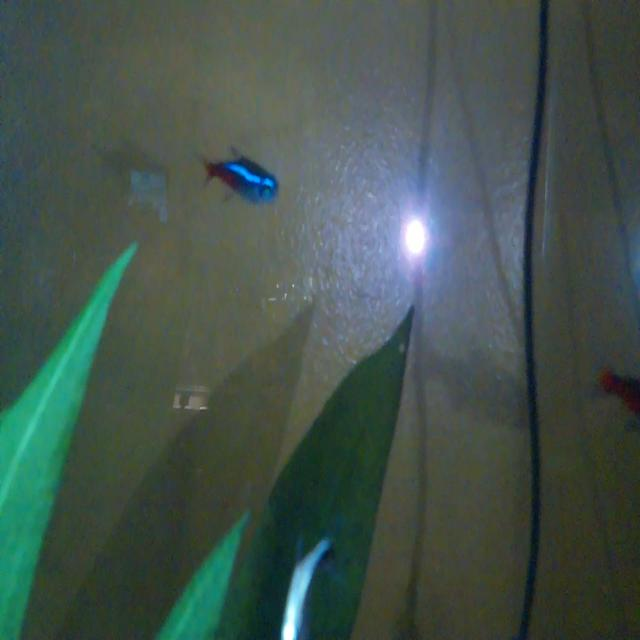fish: (198, 139, 282, 218)
